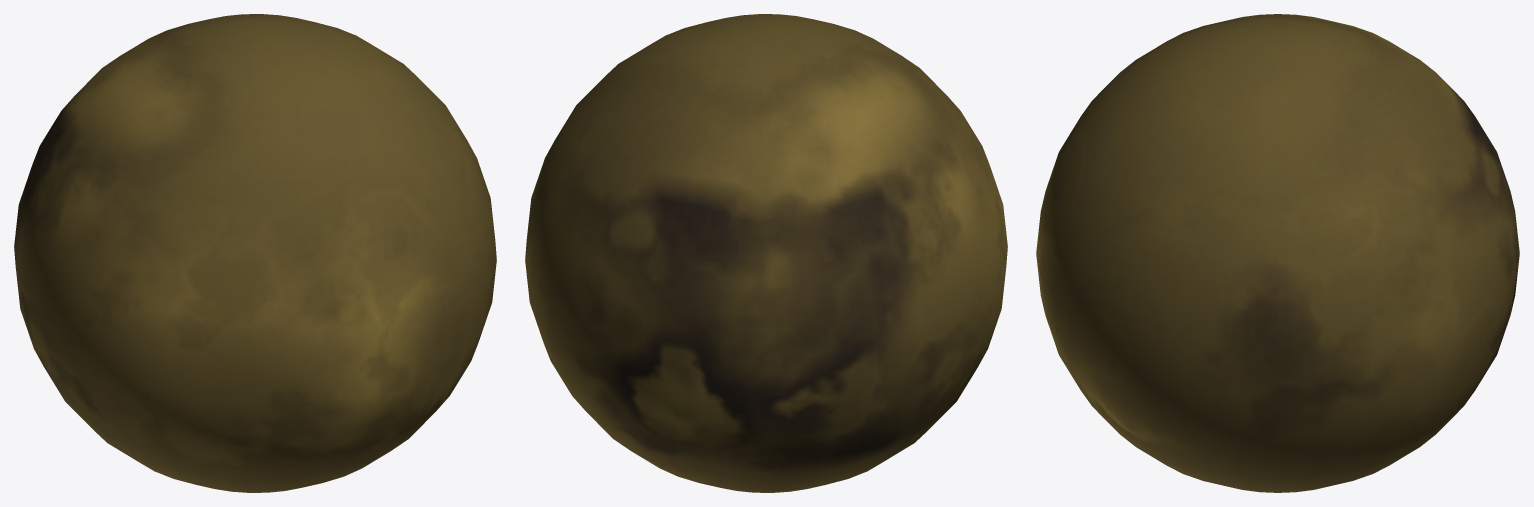
Rendered from planet-2.glb.
3 views of the same model, side by side, from view 1: azimuth 30°, elevation 25°; view 2: azimuth 150°, elevation 25°; view 3: azimuth 270°, elevation 25° (orthographic).
Visible parts, largest first — view 1: kepler-62e; view 2: kepler-62e; view 3: kepler-62e.
Part boxes in pixels (<box>): kepler-62e: <box>14,14,496,492</box>; kepler-62e: <box>525,14,1007,492</box>; kepler-62e: <box>1036,14,1519,492</box>.
Bounding box in the file's own units: 1.01 × 1 × 1.01.
Materials: 1 (1 with a texture image).
